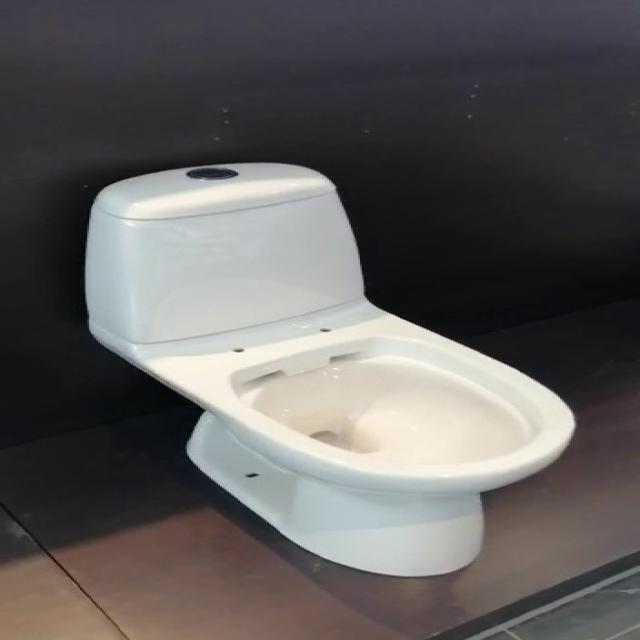toilet: (82, 160, 576, 576)
